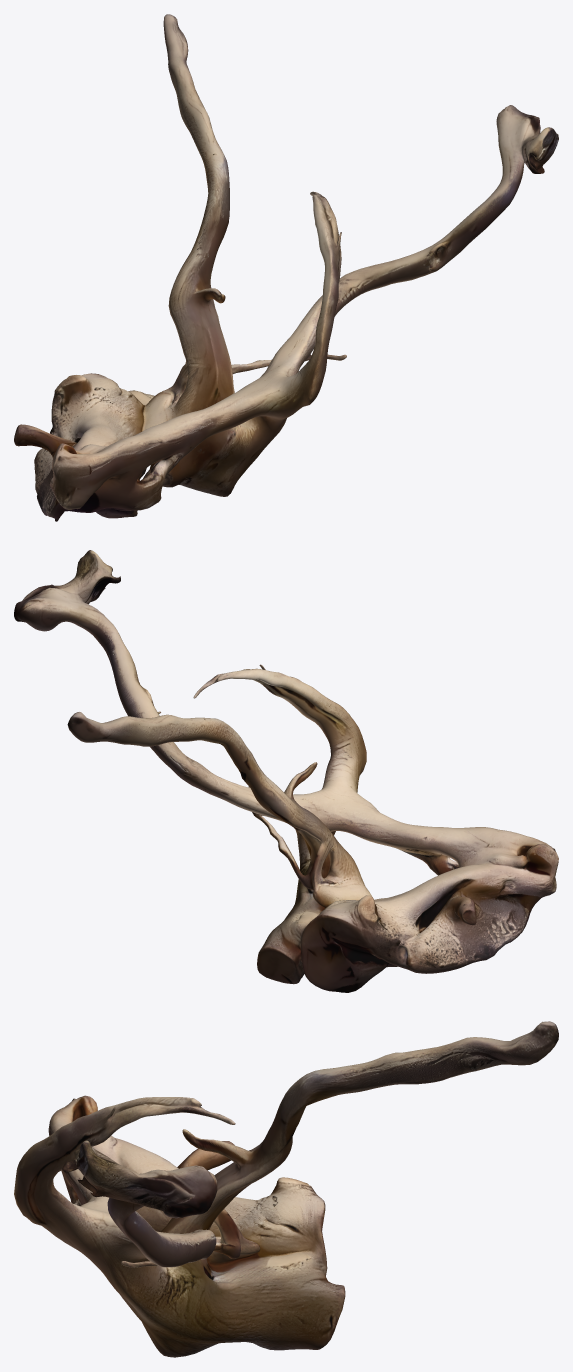
The picture shows the model from 3 angles, top to bottom: view 1: azimuth 30°, elevation 25°; view 2: azimuth 150°, elevation 25°; view 3: azimuth 270°, elevation 25°; orthographic projection. The views are drawn at different scales.
Parts seen in each view (by area): view 1: model; view 2: model; view 3: model.
Part boxes in pixels (box(x1,y1,x2,y2)): model: box(14, 14, 558, 521); model: box(14, 550, 558, 992); model: box(14, 1021, 558, 1357).
Size of the model in its own units: 1.9 by 1.14 by 1.42.
1 material, 1 textured.
